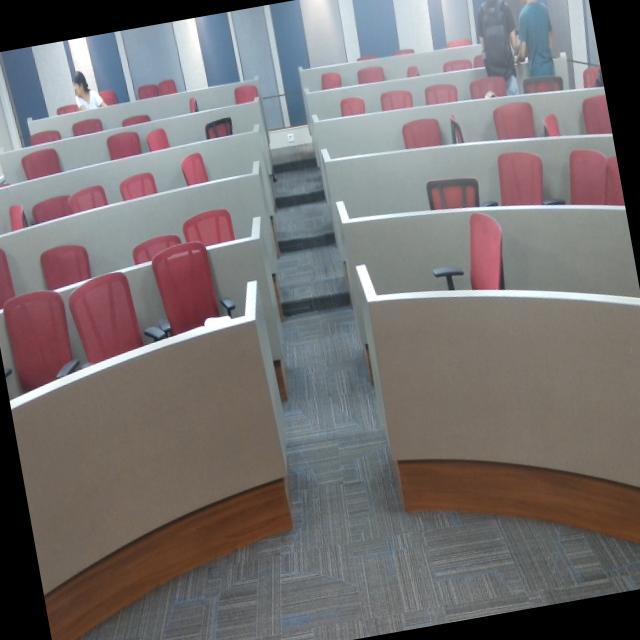cheating: (65, 50, 109, 127)
